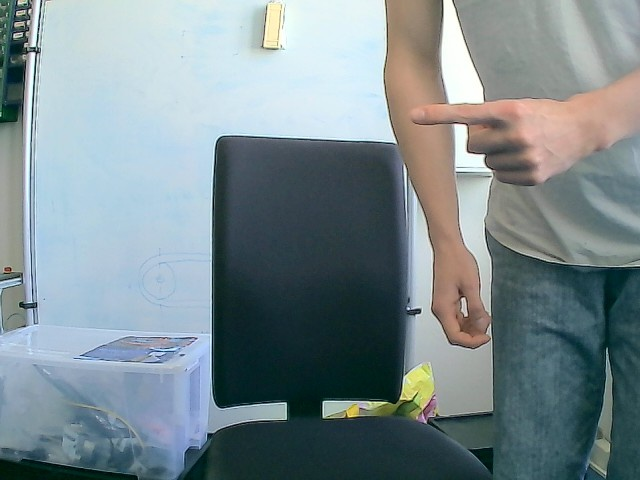no_gesture: (428, 247, 498, 356)
right: (409, 95, 593, 187)
